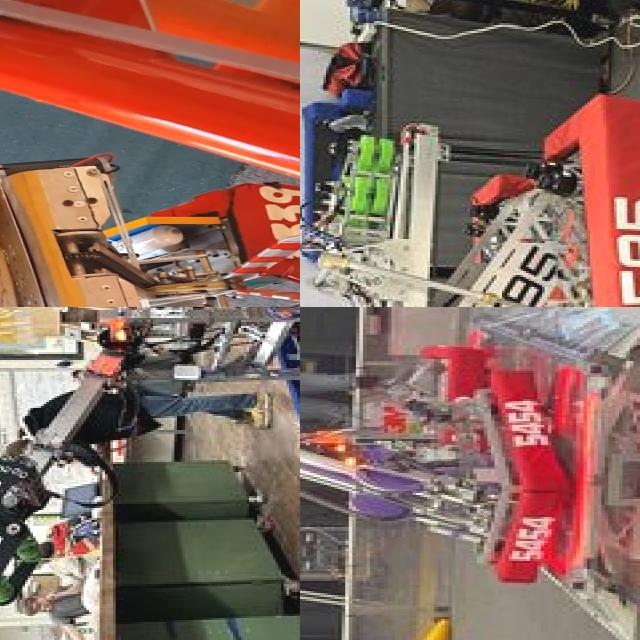FRC-Robots: (300, 307, 640, 640), (0, 307, 300, 629), (300, 39, 640, 307), (0, 150, 300, 307), (300, 326, 505, 502)
